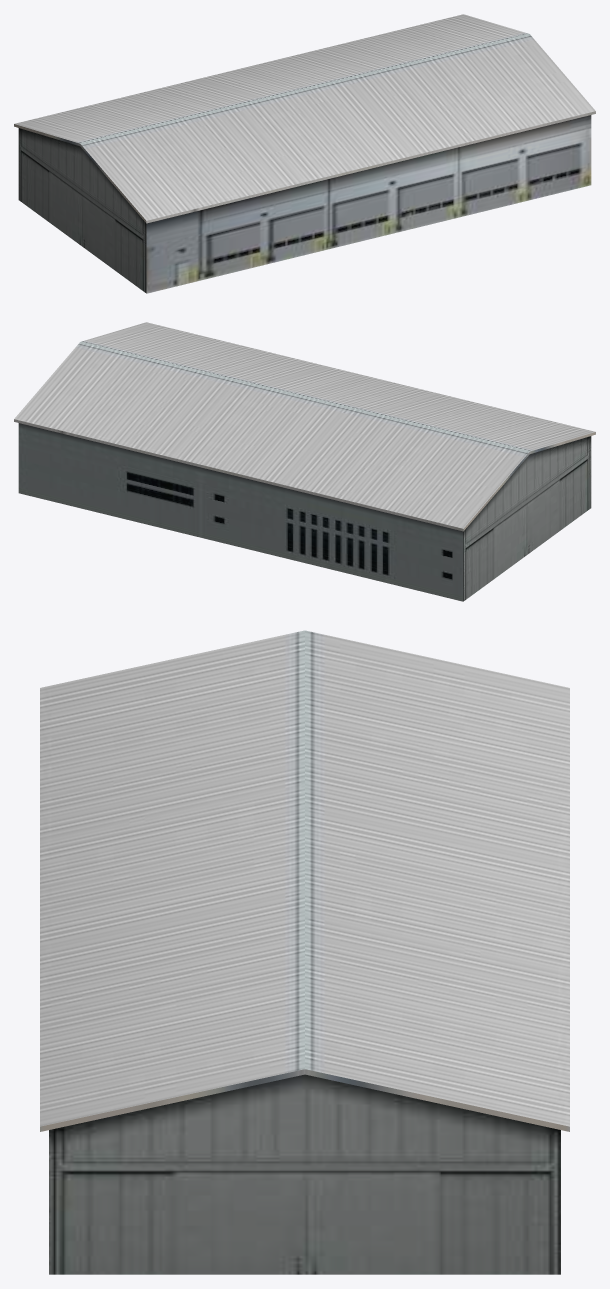
3 renders of one model, top to bottom at view 1: azimuth 30°, elevation 25°; view 2: azimuth 150°, elevation 25°; view 3: azimuth 270°, elevation 25°, orthographic. The views are drawn at different scales.
Parts seen in each view (by area): view 1: DN108_NhaKho1; view 2: DN108_NhaKho1; view 3: DN108_NhaKho1.
Part boxes in pixels (<box>): DN108_NhaKho1: <box>14,14,595,293</box>; DN108_NhaKho1: <box>14,322,595,601</box>; DN108_NhaKho1: <box>40,630,569,1274</box>.
Bounding box in the file's own units: 70.68 × 15.61 × 36.07.
Materials: 1 (1 with a texture image).
